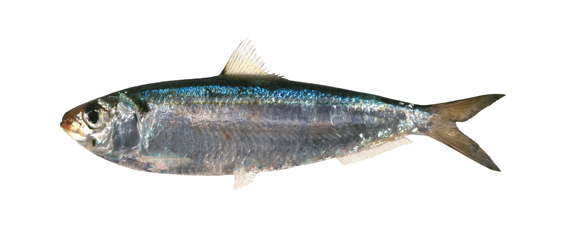fish: (60, 36, 508, 189)
